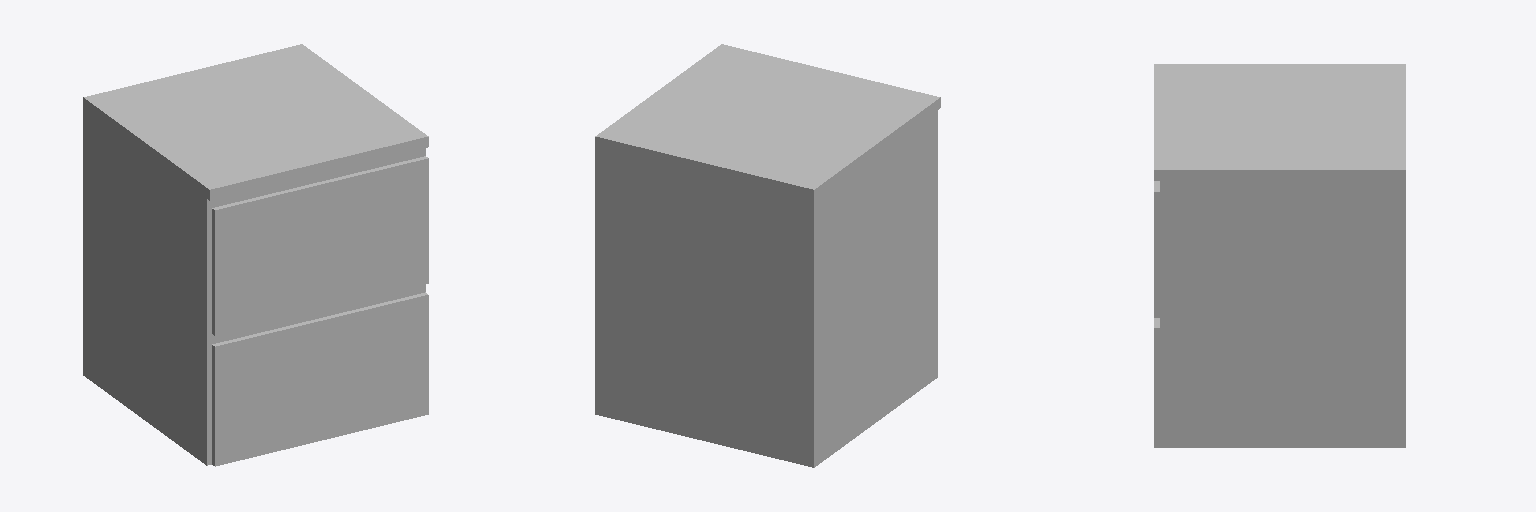
The model's file is KitchenOPEN_Export-11.obj.
The picture shows the model from 3 angles: view 1: azimuth 30°, elevation 25°; view 2: azimuth 150°, elevation 25°; view 3: azimuth 270°, elevation 25°; orthographic projection.
Parts seen in each view (by area): view 1: KitchenOPEN_Export-11; view 2: KitchenOPEN_Export-11; view 3: KitchenOPEN_Export-11.
Boxes of the visible parts, <box> form: KitchenOPEN_Export-11: <box>83,44,428,466</box>; KitchenOPEN_Export-11: <box>595,44,940,467</box>; KitchenOPEN_Export-11: <box>1154,64,1405,447</box>.
Size of the model in its own units: 42 by 51 by 42.